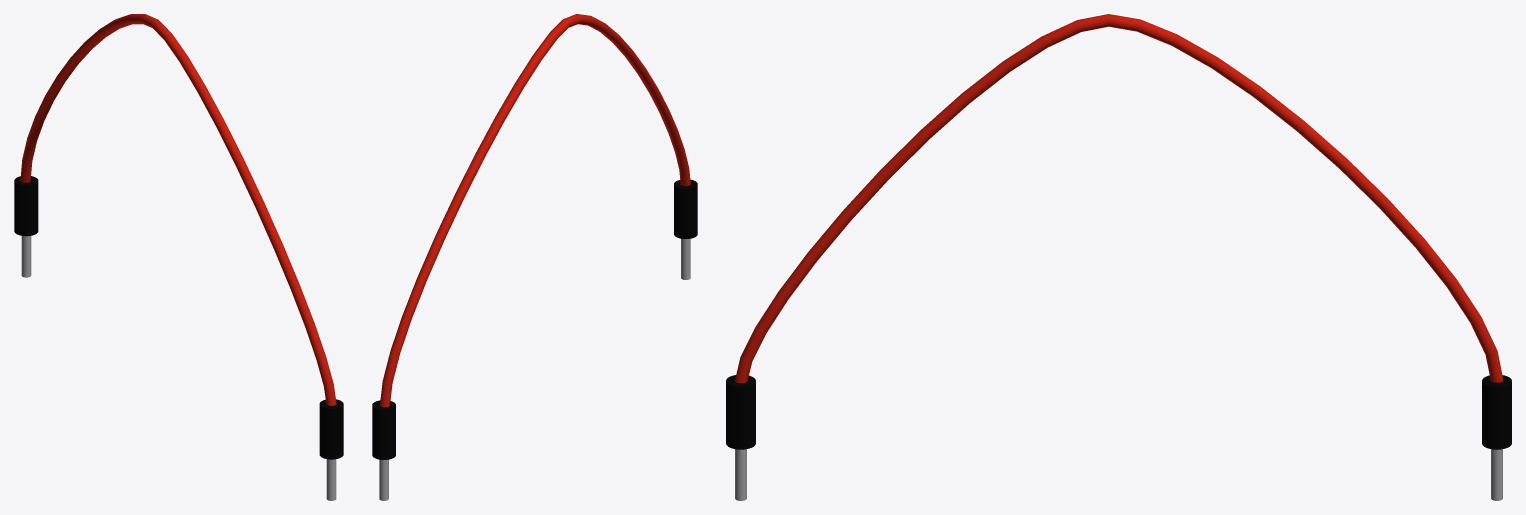
The model's file is jumper_cable_red.fbx.
3 views of the same model, side by side, from view 1: azimuth 30°, elevation 25°; view 2: azimuth 150°, elevation 25°; view 3: azimuth 270°, elevation 25° (orthographic). The views are drawn at different scales.
Visible parts, largest first — view 1: BezierCurve, Cylinder, Cylinder.003, Cylinder.001, Cylinder.002; view 2: BezierCurve, Cylinder, Cylinder.003, Cylinder.002, Cylinder.001; view 3: BezierCurve, Cylinder.003, Cylinder.
Boxes of the visible parts, x1,y1,x2,y2 form: BezierCurve: (20, 14, 336, 405); Cylinder: (319, 399, 343, 459); Cylinder.003: (14, 176, 38, 236); Cylinder.001: (326, 459, 336, 500); Cylinder.002: (21, 236, 31, 277); BezierCurve: (380, 14, 690, 407); Cylinder: (674, 179, 697, 238); Cylinder.003: (372, 400, 395, 459); Cylinder.002: (379, 459, 388, 500); Cylinder.001: (681, 238, 690, 279); BezierCurve: (735, 14, 1503, 383); Cylinder.003: (1482, 375, 1511, 449); Cylinder: (726, 375, 755, 449).
Bounding box in the file's own units: 55.67 × 477 × 727.
